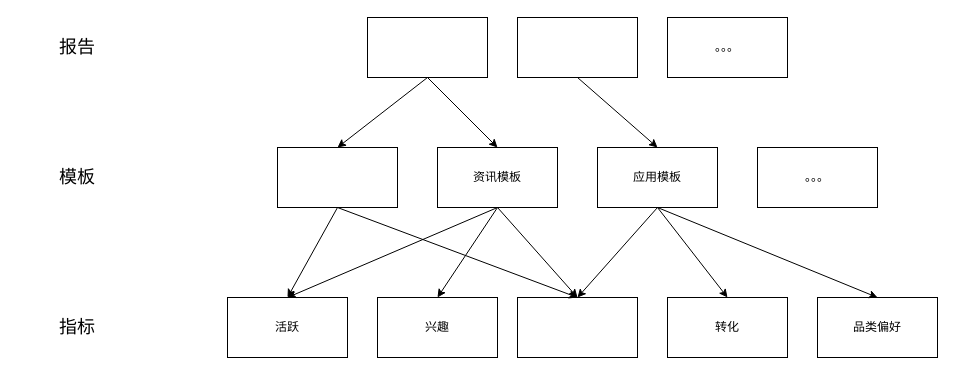
This 955x375 diagram has some shape labels left out. Each missing label, with the centre of its shape:
ip模板: (x=337, y=177)
人群应用偏好报告: (x=577, y=47)
人群营销报告: (x=427, y=47)
特征重要度: (x=577, y=327)
